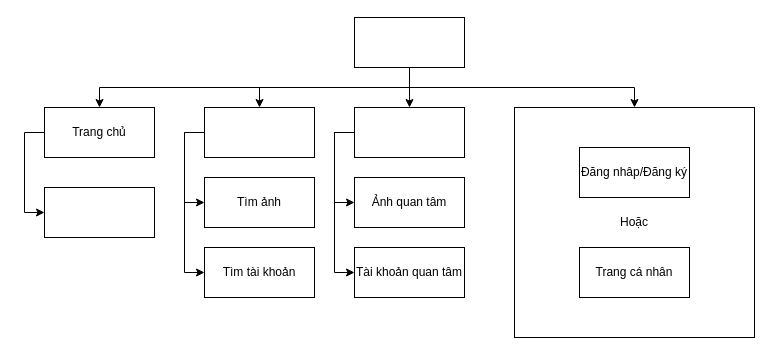
Some shapes in this 772 by 355 pixel diagram are drawn without their labels. Here are the shapes that lost their labels. From the top down, the box of each, then its label:
(354, 16, 464, 68): WEBSITE
(204, 106, 314, 158): Tìm kiếm
(354, 106, 464, 158): Quan tâm
(44, 186, 154, 238): Các ảnh đề xuất
